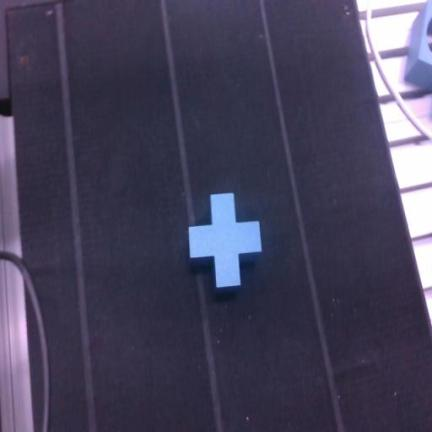cross: (189, 194, 261, 287)
